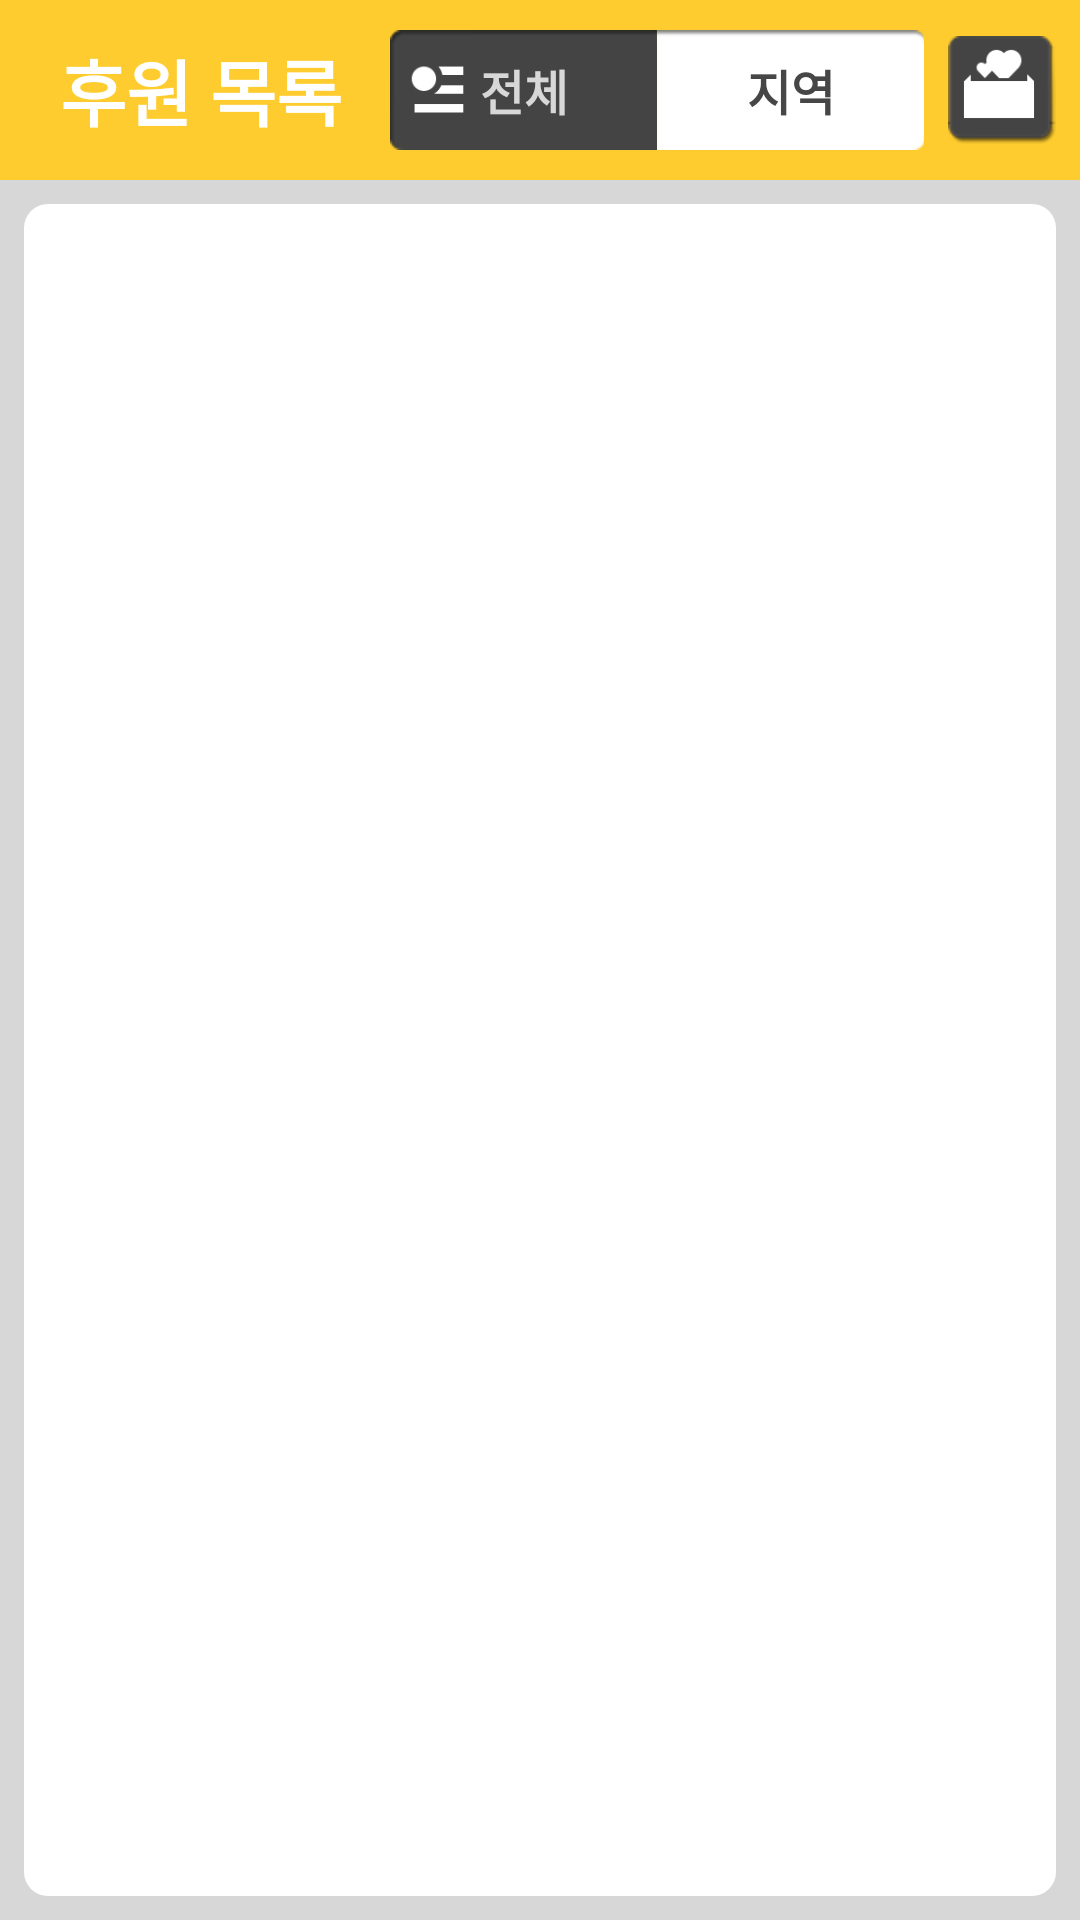

Where icons sit on this 1080*1920 app screen, as (x1, y1, x2, y2):
sponsor: (948, 36, 1055, 142)
